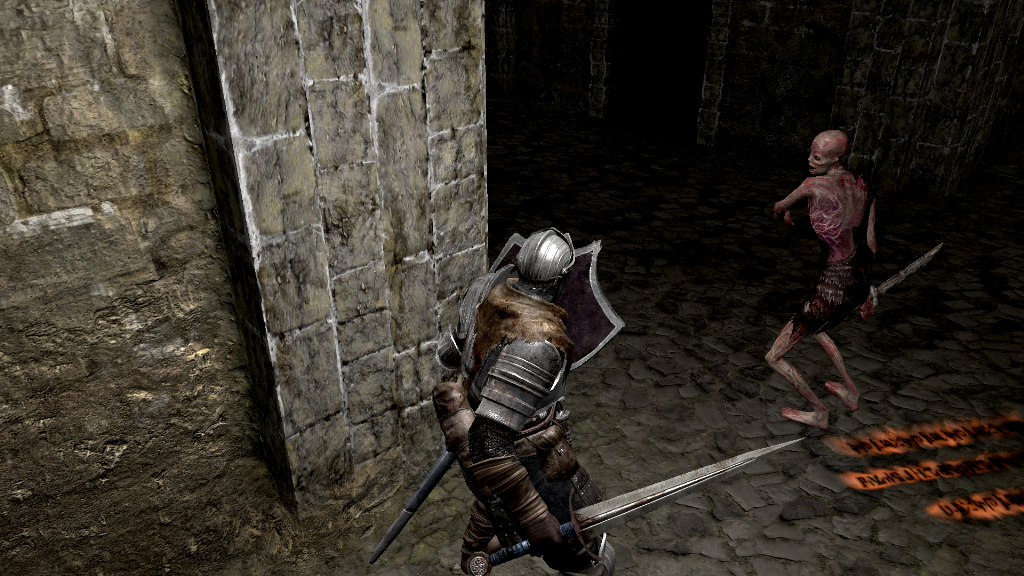hollow: (764, 129, 878, 430)
player: (434, 226, 807, 576)
